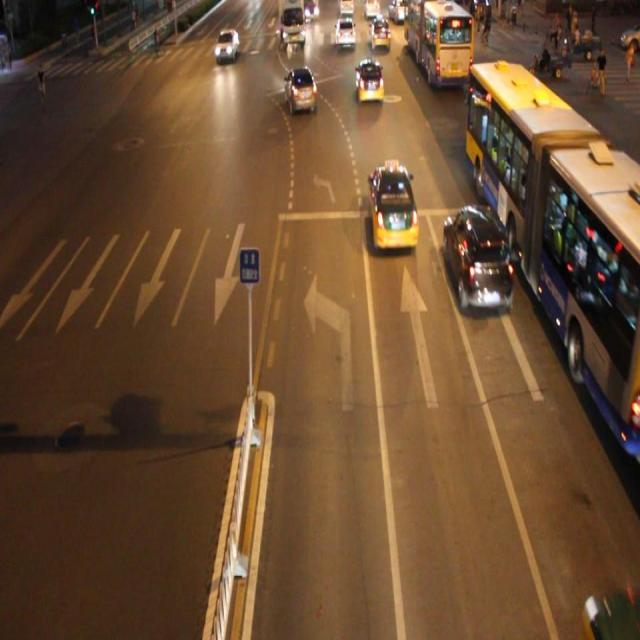car: (444, 206, 511, 311), (367, 159, 417, 252), (284, 64, 317, 115), (354, 57, 383, 105)
van: (467, 63, 640, 454)
